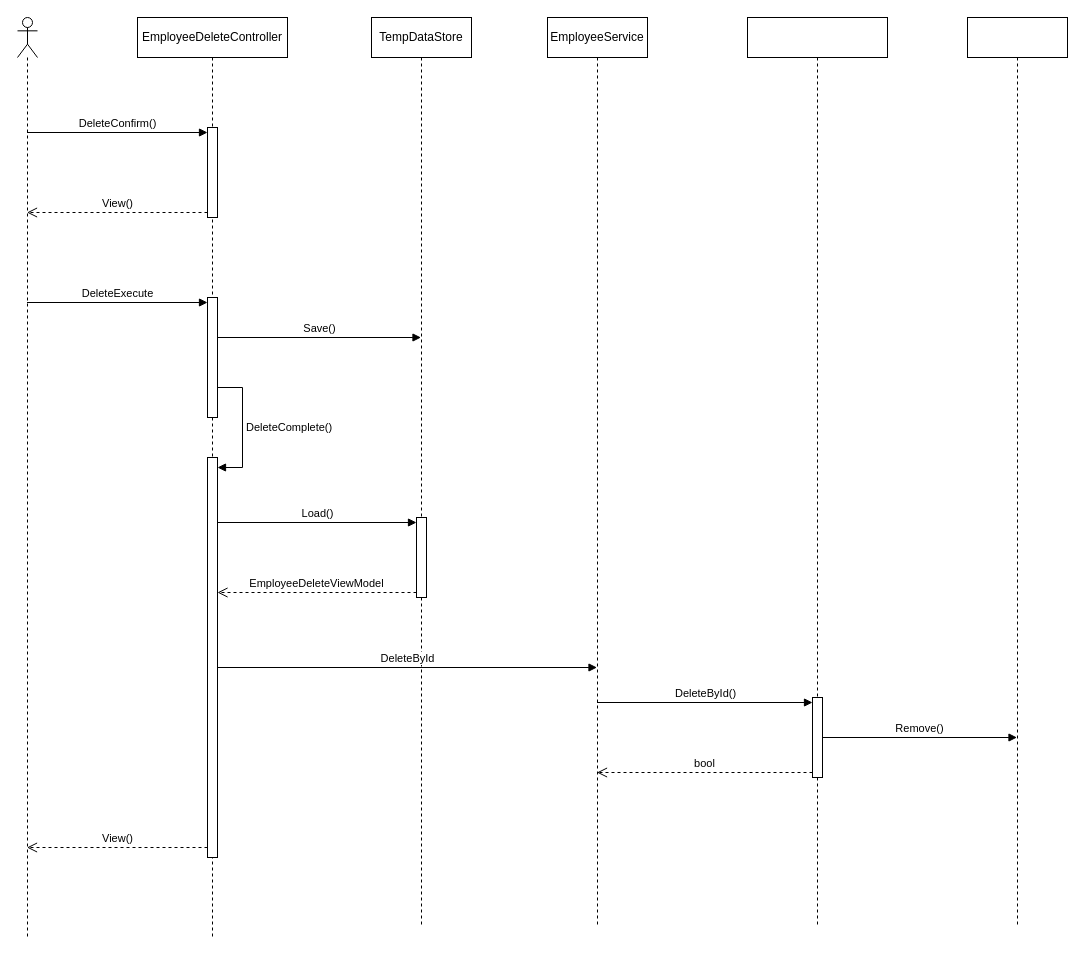
The diagram is 1085 pixels wide and 955 high, and some of its shapes have lost their labels. The box of each missing label's shape, as (x1, y1, x2, y2) in pixels:
AppDbContext: (966, 16, 1068, 928)
EmployeeRepository: (746, 16, 888, 928)
